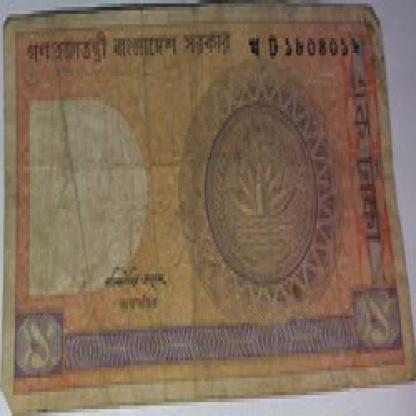One Taka: (348, 66, 388, 253), (17, 312, 63, 378), (353, 291, 401, 350)
